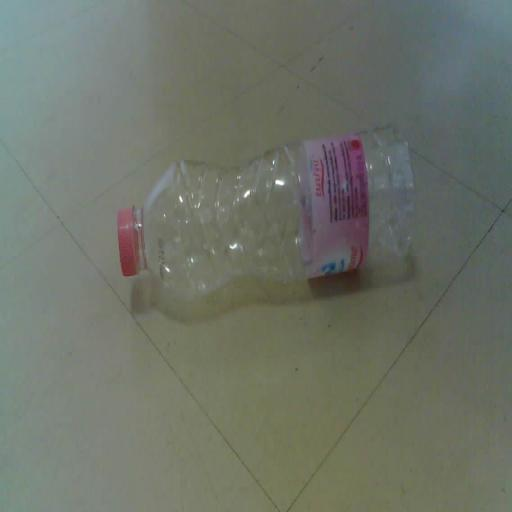bottle: (97, 99, 434, 347)
